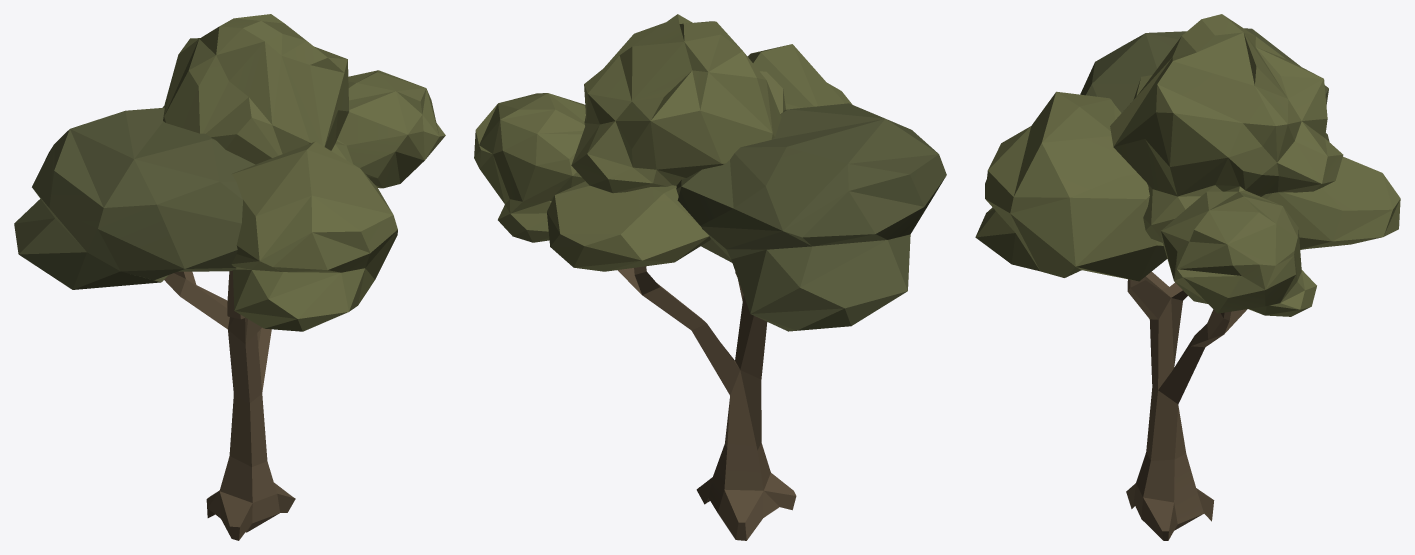
The model's file is Env_Tree_01.fbx.
The picture shows the model from 3 angles, left to right: view 1: azimuth 30°, elevation 25°; view 2: azimuth 150°, elevation 25°; view 3: azimuth 270°, elevation 25°; orthographic projection. The views are drawn at different scales.
Parts seen in each view (by area): view 1: SM_Env_Tree_01; view 2: SM_Env_Tree_01; view 3: SM_Env_Tree_01.
Part boxes in pixels (box(x1,y1,x2,y2)): SM_Env_Tree_01: box(14, 14, 445, 540); SM_Env_Tree_01: box(474, 14, 946, 540); SM_Env_Tree_01: box(975, 14, 1400, 540).
Size of the model in its own units: 822 by 941 by 696.
Materials: 1 (1 with a texture image).
